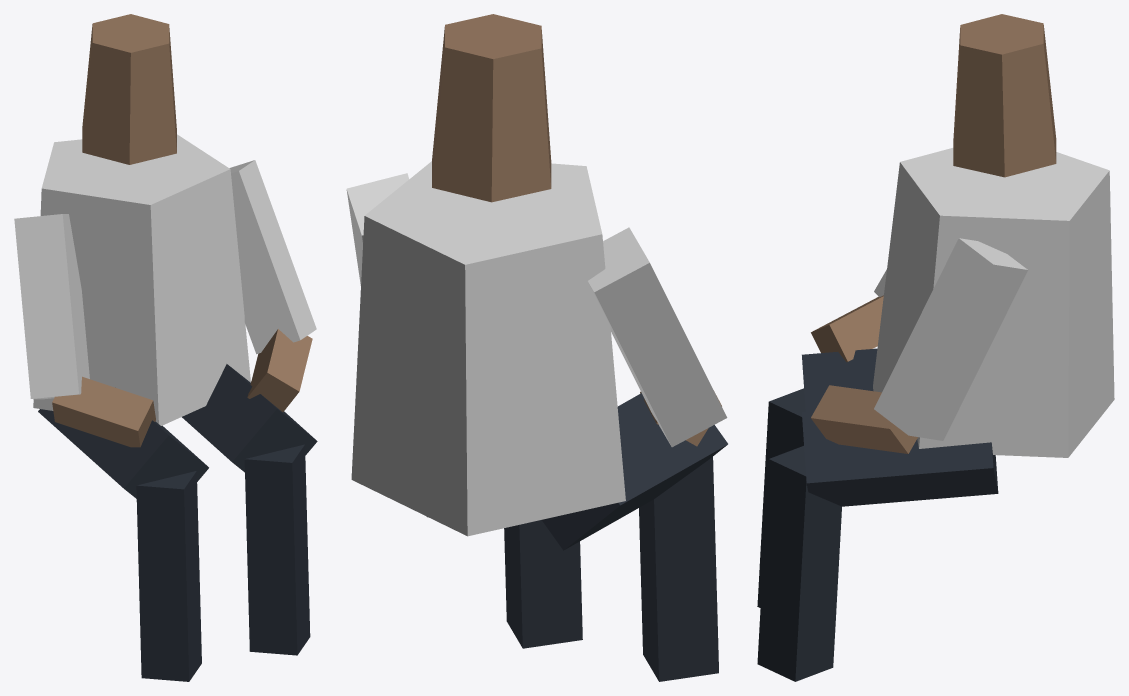
The model's file is SM_Eclipse_SeatedSpectator.fbx.
3 renders of one model, left to right at view 1: azimuth 30°, elevation 25°; view 2: azimuth 150°, elevation 25°; view 3: azimuth 270°, elevation 25°, orthographic. The views are drawn at different scales.
Parts seen in each view (by area): view 1: SM_Eclipse_SeatedSpectator; view 2: SM_Eclipse_SeatedSpectator; view 3: SM_Eclipse_SeatedSpectator.
Boxes of the visible parts, bbox=[...] form: SM_Eclipse_SeatedSpectator: bbox=[14, 14, 317, 681]; SM_Eclipse_SeatedSpectator: bbox=[346, 14, 727, 681]; SM_Eclipse_SeatedSpectator: bbox=[757, 14, 1114, 681].
Size of the model in its own units: 0.6343 by 0.6307 by 1.18.
